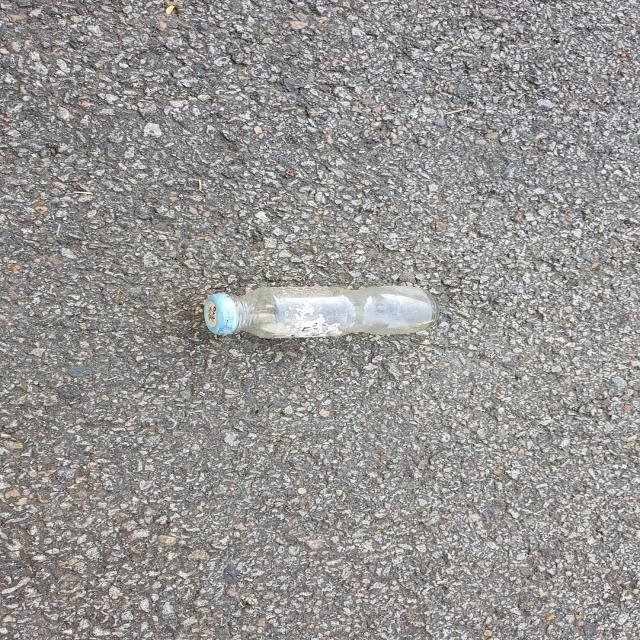glass: (203, 286, 437, 338)
